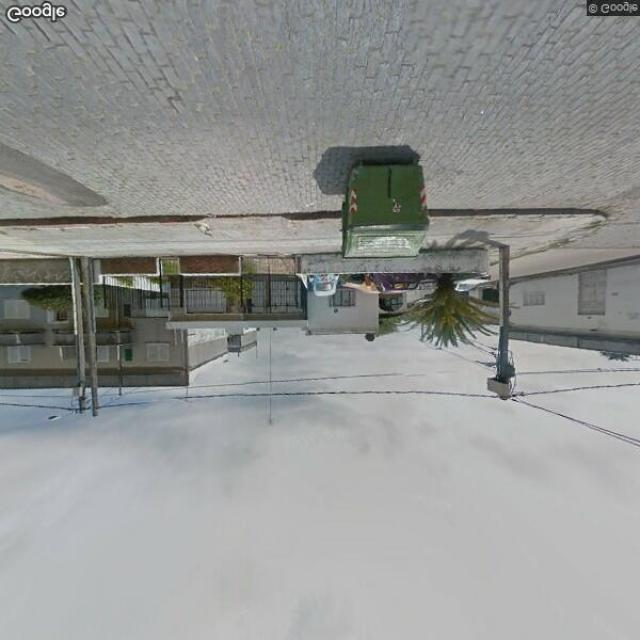garbage container: (333, 141, 443, 269)
